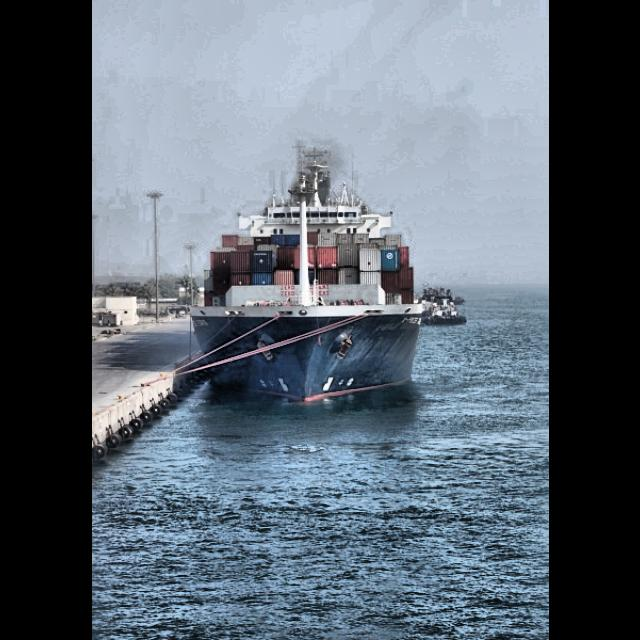container: (186, 148, 427, 406)
